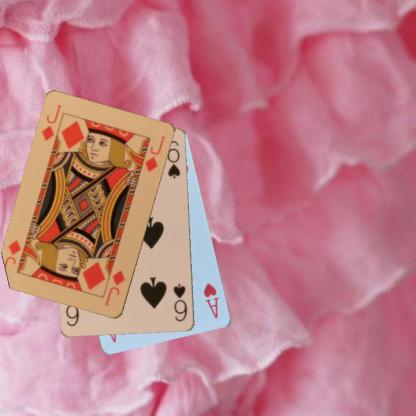6s: (171, 281, 188, 323)
Ah: (201, 280, 221, 320)
Jd: (102, 268, 127, 308), (39, 102, 63, 143)
